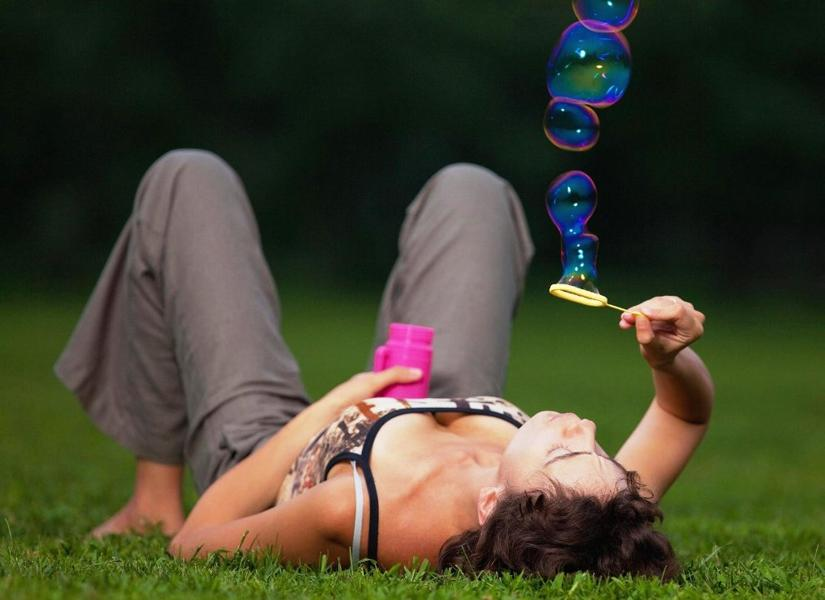person: (70, 144, 706, 580)
